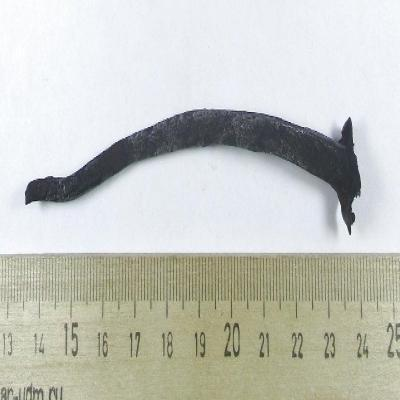archeology: (24, 109, 362, 229)
